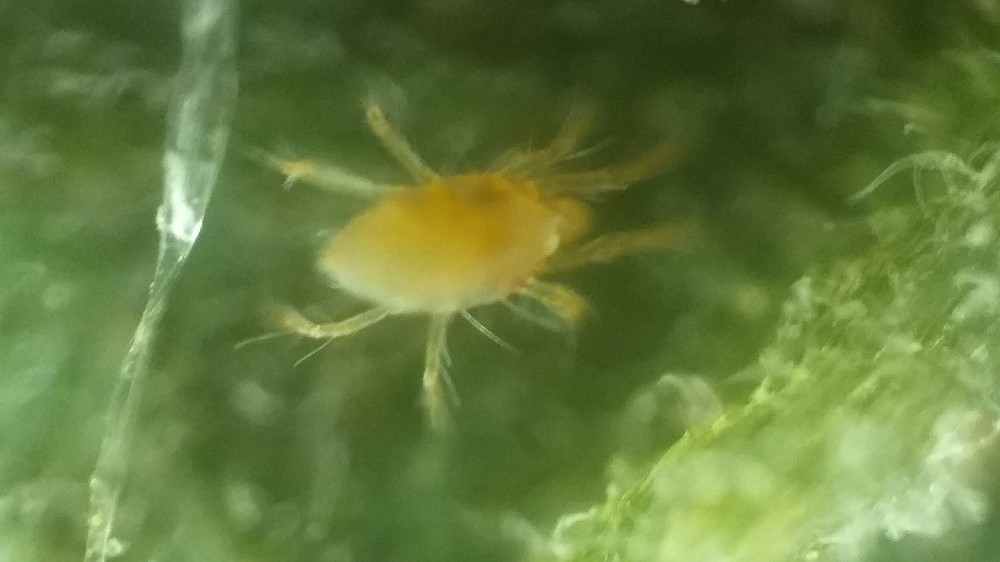Aracnido Rojo: (253, 93, 737, 418)
